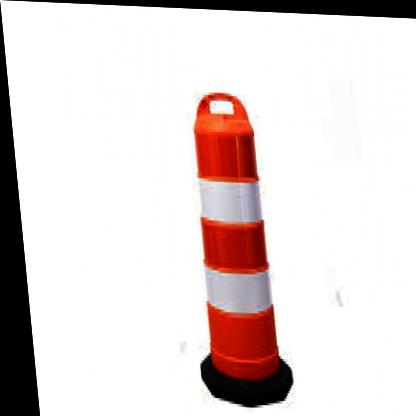obstacle: (182, 90, 275, 372)
